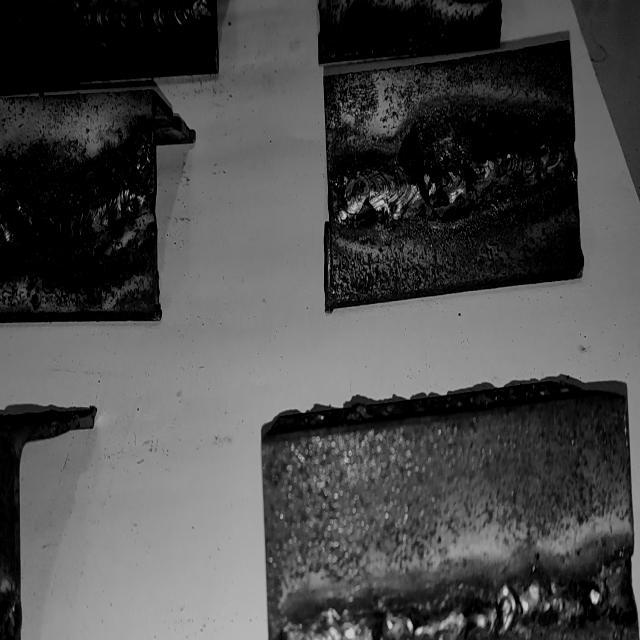Defect: (417, 115, 477, 234), (583, 548, 636, 634), (0, 202, 66, 250), (125, 125, 155, 208)
Welding Line: (270, 553, 634, 640), (326, 135, 574, 225), (0, 162, 150, 263)
Workpiece: (256, 378, 640, 640), (318, 44, 578, 314), (0, 85, 163, 327)
